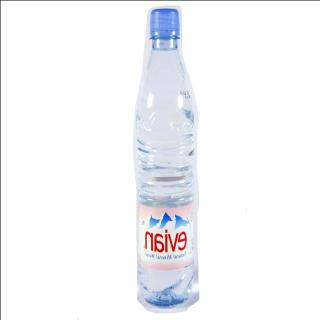Anorganik: (133, 7, 199, 309)
